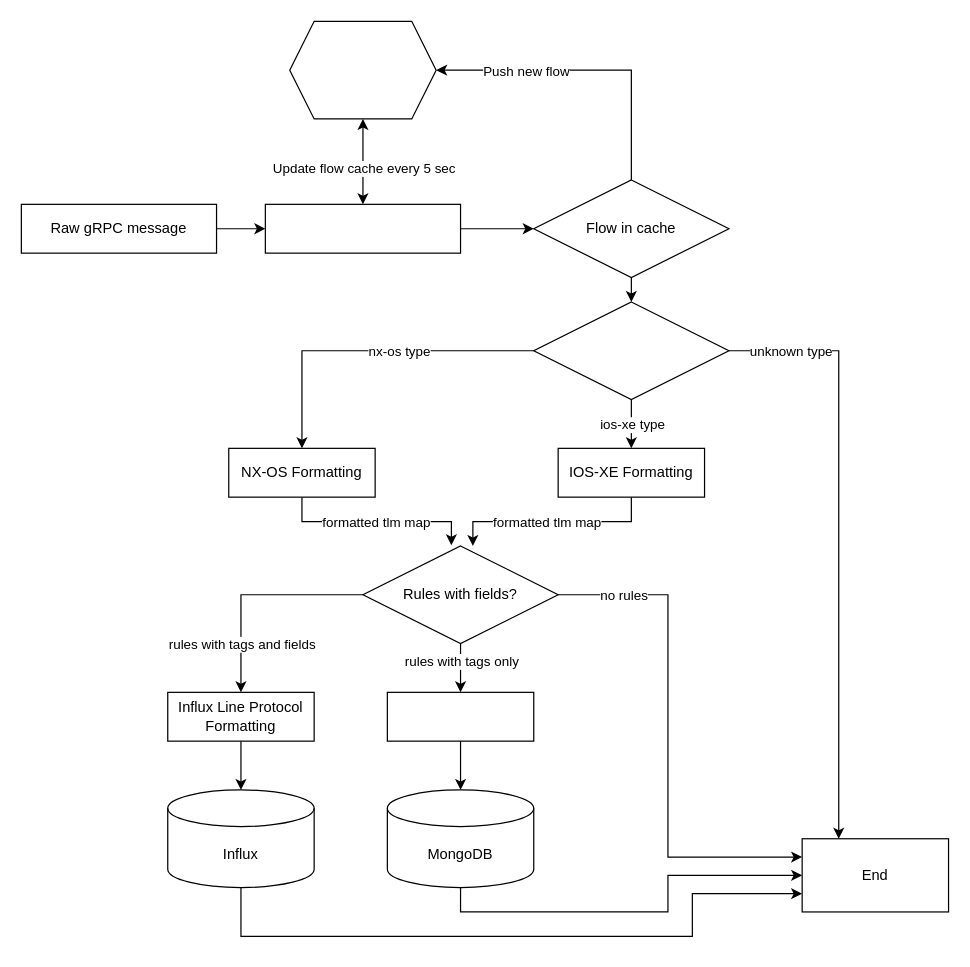
The diagram is 970 pixels wide and 967 high, and some of its shapes have lost their labels. Each missing label, with the centre of its shape:
Back: (362,69)
Flow Cache: (362,228)
flow type?: (631,350)
Mongo Formating: (460,716)
